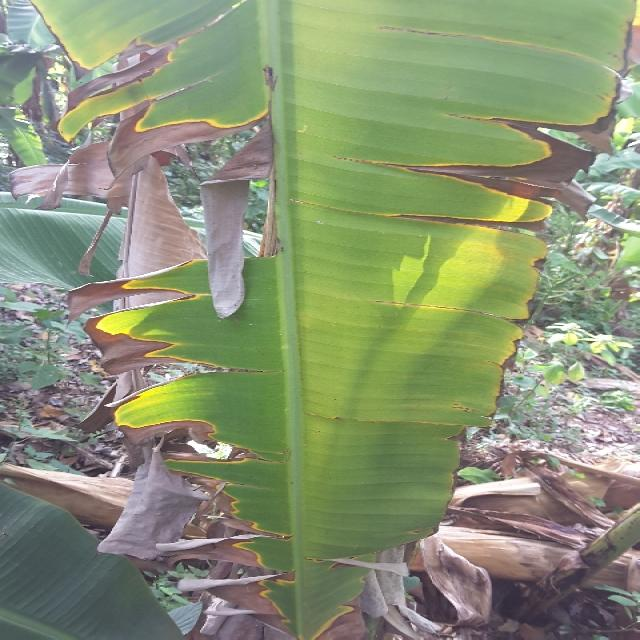Bract_mosaic_virus: (27, 134, 258, 250), (67, 438, 190, 558), (407, 533, 505, 629)
Cordana: (290, 5, 616, 286), (51, 255, 292, 461), (5, 0, 284, 141), (195, 456, 337, 640)
